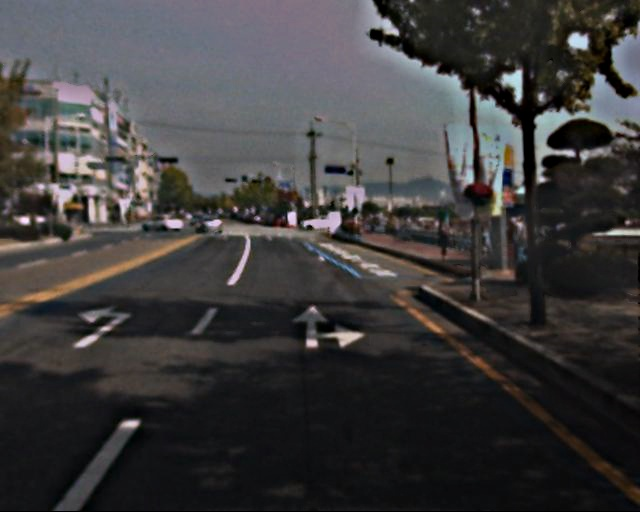person: (503, 211, 530, 277), (435, 212, 455, 261)
